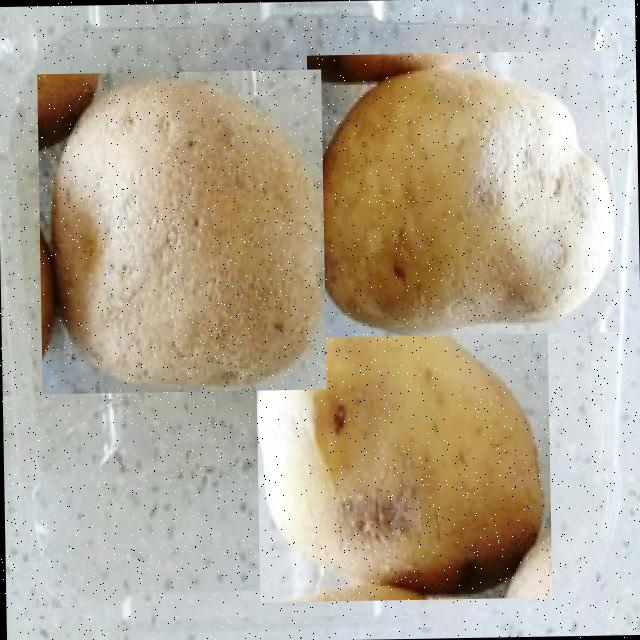Potato: (36, 68, 326, 393), (306, 49, 618, 336), (254, 300, 551, 601)
